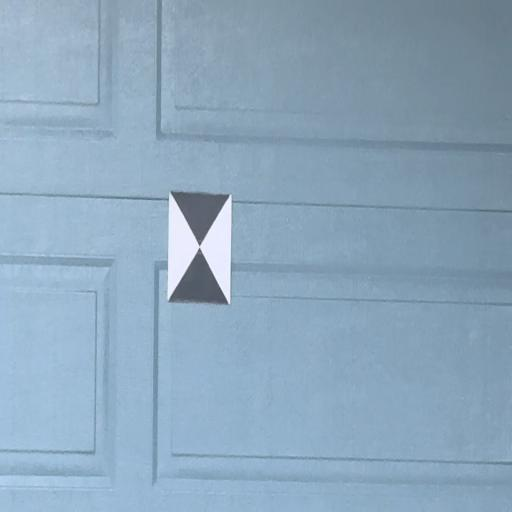target: (170, 194, 232, 305)
